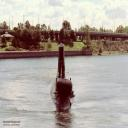submarine: (49, 45, 78, 116)
